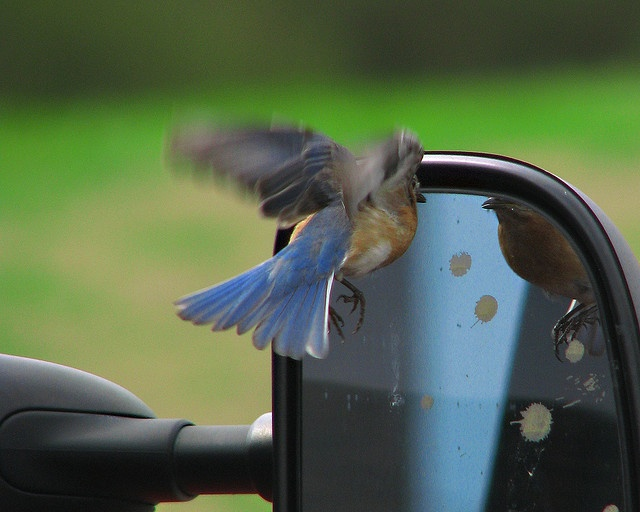bird: (164, 119, 592, 481)
